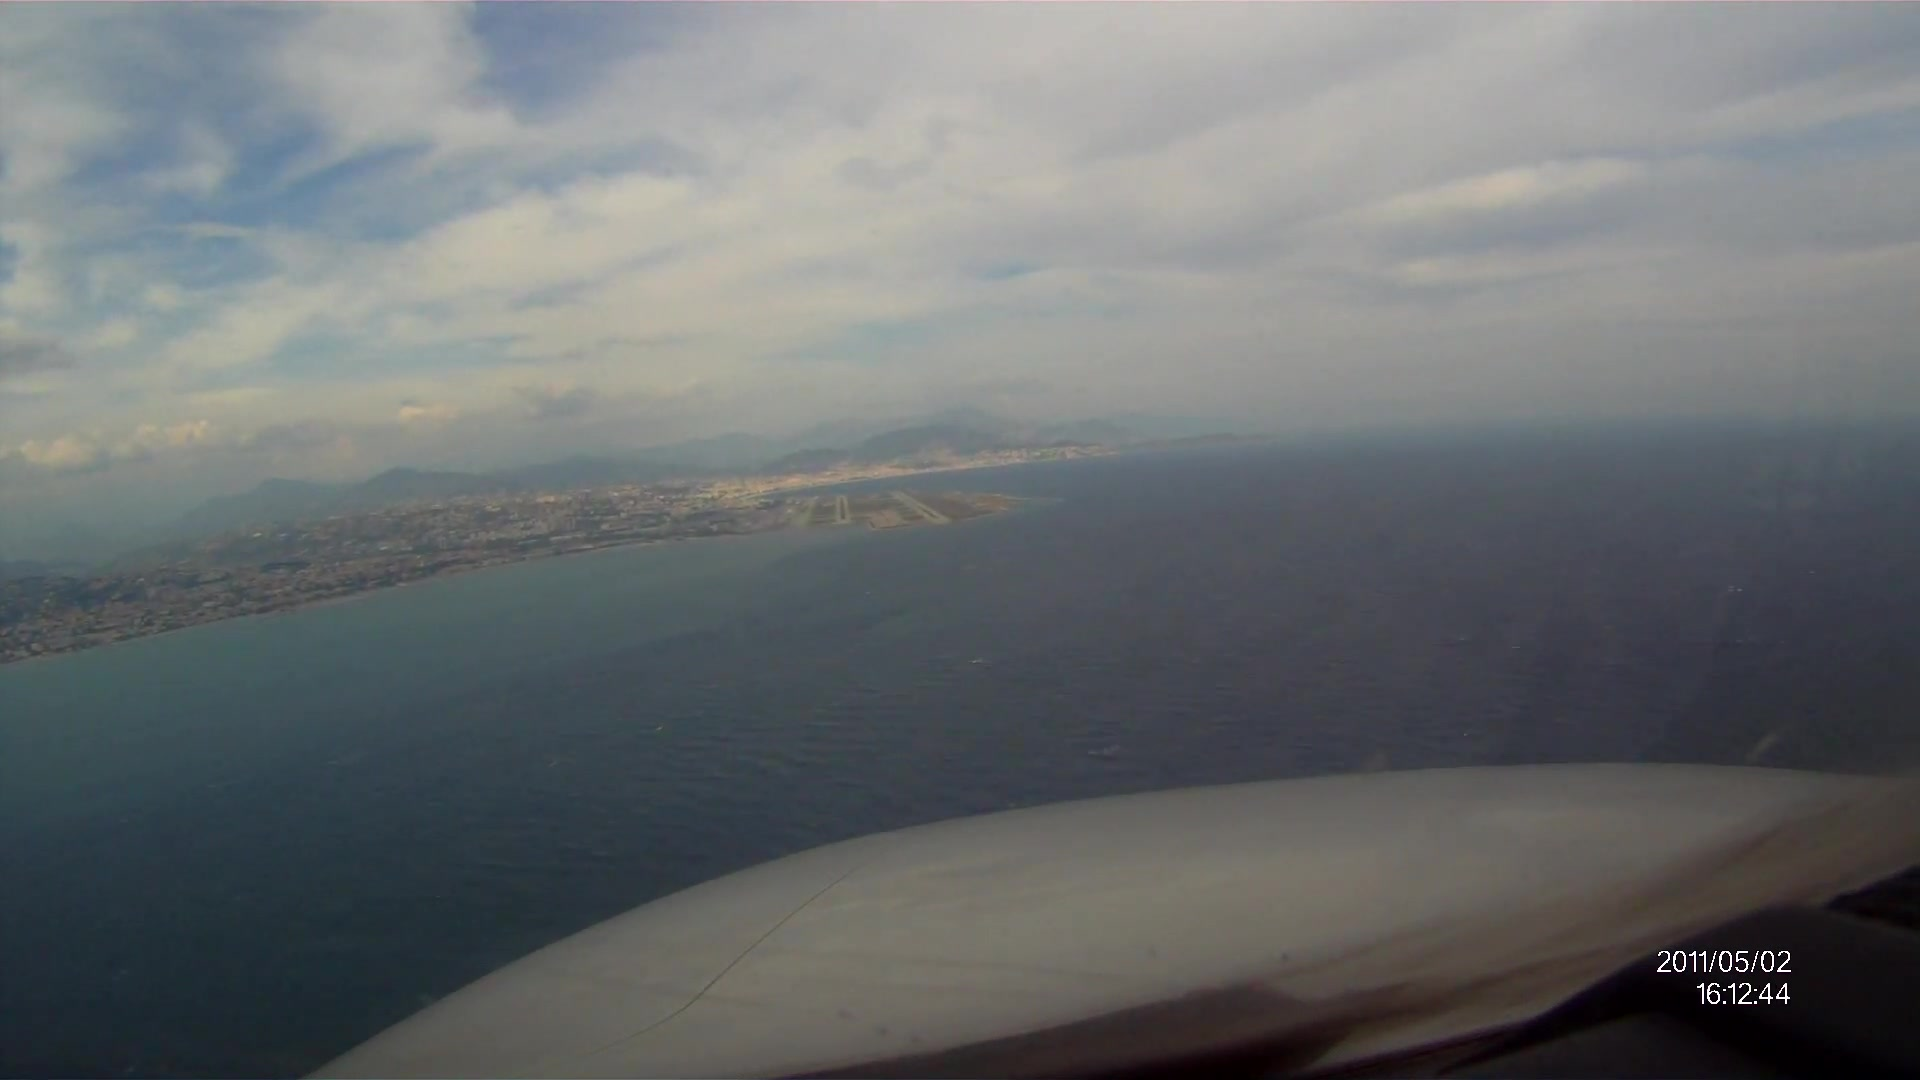runway: (890, 488, 952, 526), (833, 493, 855, 527)
